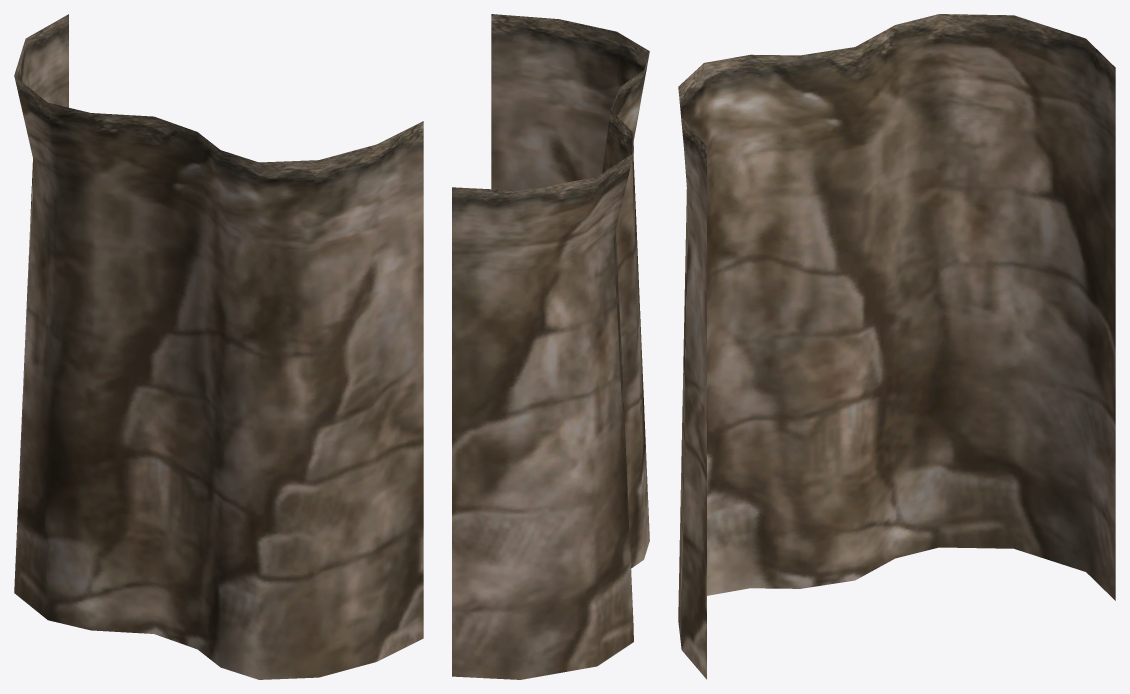
File: OVERHILL_A_01_LINE86.fbx
3 views of the same model, side by side, from view 1: azimuth 30°, elevation 25°; view 2: azimuth 150°, elevation 25°; view 3: azimuth 270°, elevation 25° (orthographic). The views are drawn at different scales.
Visible parts, largest first — view 1: OVERHILL_A_01_LINE86; view 2: OVERHILL_A_01_LINE86; view 3: OVERHILL_A_01_LINE86.
Part boxes in pixels (left/top/right/bottom): OVERHILL_A_01_LINE86: left=14, top=14, right=423, bottom=679; OVERHILL_A_01_LINE86: left=452, top=14, right=649, bottom=679; OVERHILL_A_01_LINE86: left=678, top=14, right=1115, bottom=679.
Bounding box in the file's own units: 25430 × 47754 × 35494.
Materials: 2 (2 with a texture image).
